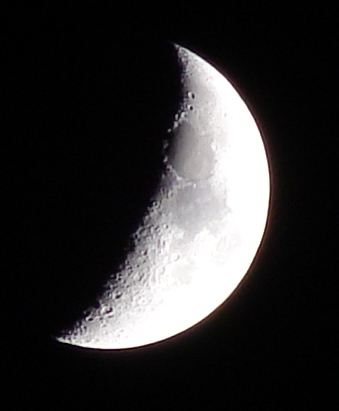crater: (109, 288, 129, 306), (218, 106, 234, 124), (98, 304, 118, 318), (185, 86, 201, 99), (185, 102, 199, 116)
